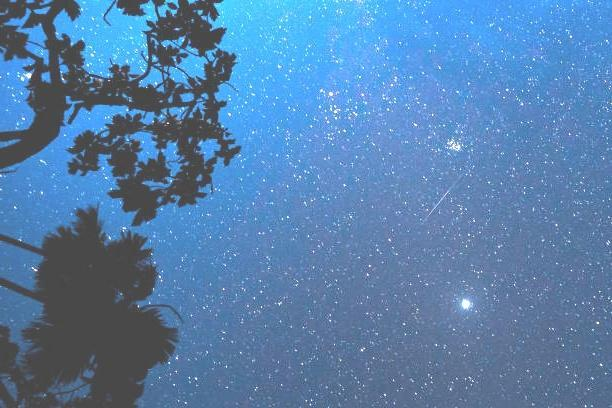meteorite: (427, 169, 470, 223)
